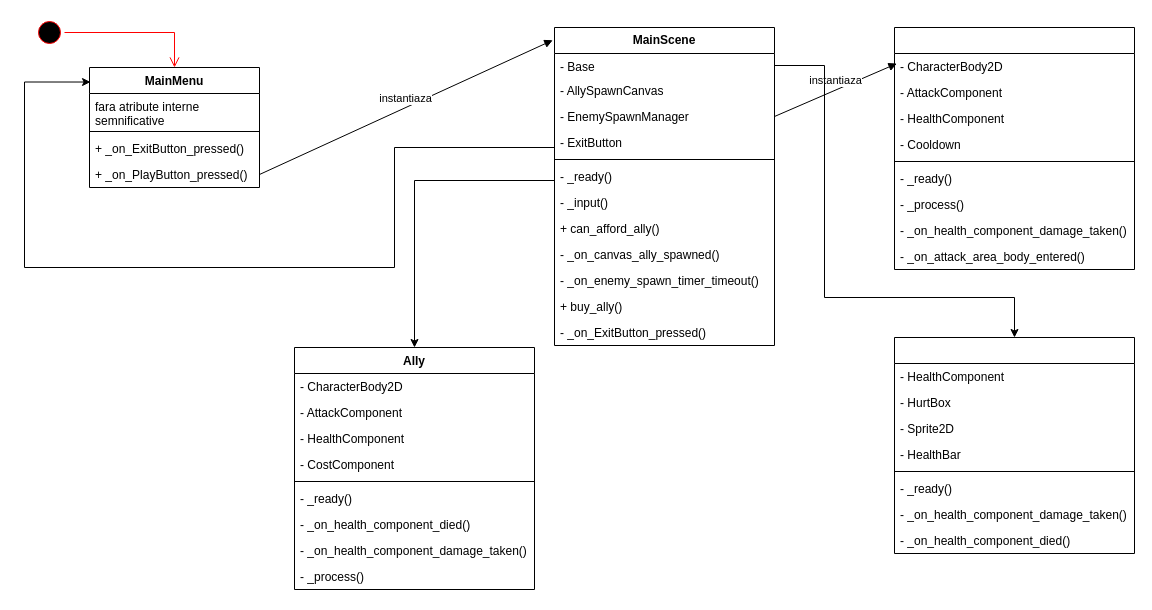
Image size: 1152x610. Some labels were removed from this diagram. The shapes that lost their labels are listed below. From the top down, each one's box as (x1, y1, x2, y2) in pixels, then its label:
(894, 26, 1134, 270): Enemy
(894, 336, 1134, 554): Base
